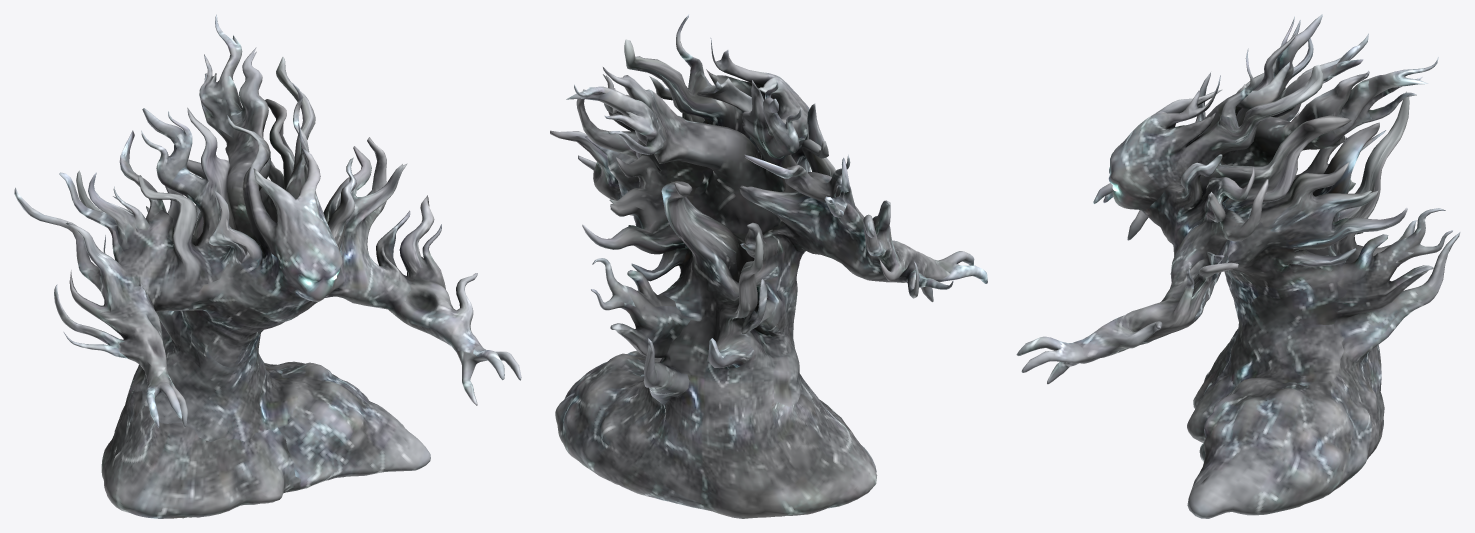
The model's file is MZ4250 - Air Elemental_2025.glb.
3 renders of one model, left to right at view 1: azimuth 30°, elevation 25°; view 2: azimuth 150°, elevation 25°; view 3: azimuth 270°, elevation 25°, orthographic. The views are drawn at different scales.
Parts seen in each view (by area): view 1: ORGANIC BASE SPHERE.001; view 2: ORGANIC BASE SPHERE.001; view 3: ORGANIC BASE SPHERE.001.
Part boxes in pixels (x1,y1,x2,y2): ORGANIC BASE SPHERE.001: (14, 14, 521, 518); ORGANIC BASE SPHERE.001: (550, 14, 987, 518); ORGANIC BASE SPHERE.001: (1016, 14, 1460, 518).
Bounding box in the file's own units: 160 × 161 × 154.
Materials: 1 (1 with a texture image).
